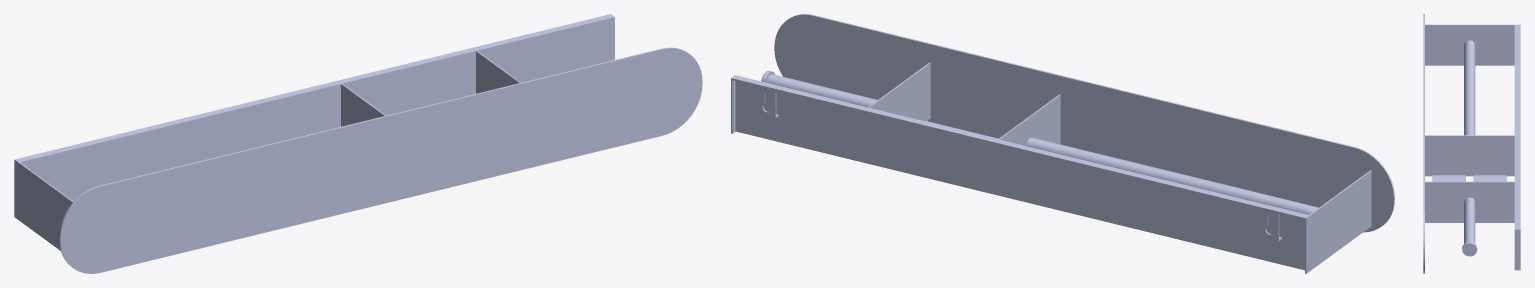
File: round-trio.e0c0f64365.glb
3 views of the same model, side by side, from view 1: azimuth 30°, elevation 25°; view 2: azimuth 150°, elevation 25°; view 3: azimuth 270°, elevation 25° (orthographic). The views are drawn at different scales.
Visible parts, largest first — view 1: NAUO1; view 2: NAUO1; view 3: NAUO1.
Boxes of the visible parts, x1,y1,x2,y2 form: NAUO1: (14, 14, 702, 273); NAUO1: (731, 14, 1394, 273); NAUO1: (1423, 14, 1520, 273).
Size of the model in its own units: 0.7 by 0.09 by 0.13.
